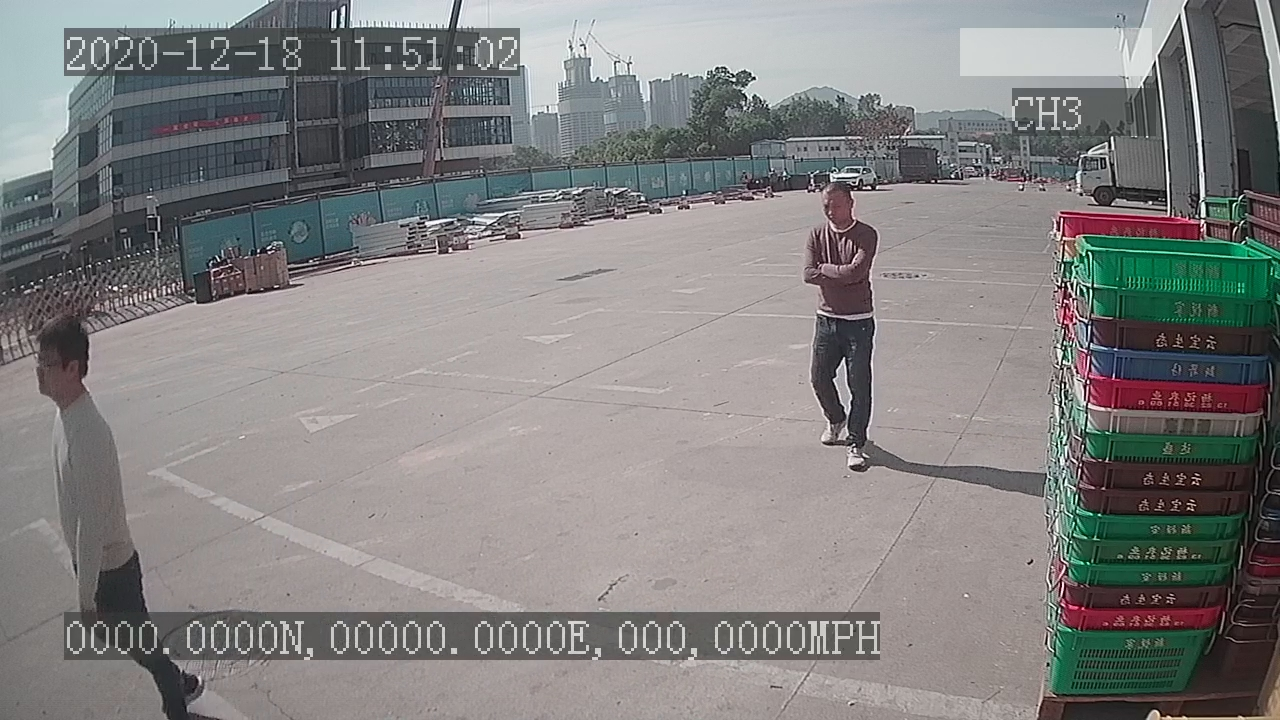person: (795, 177, 883, 479)
